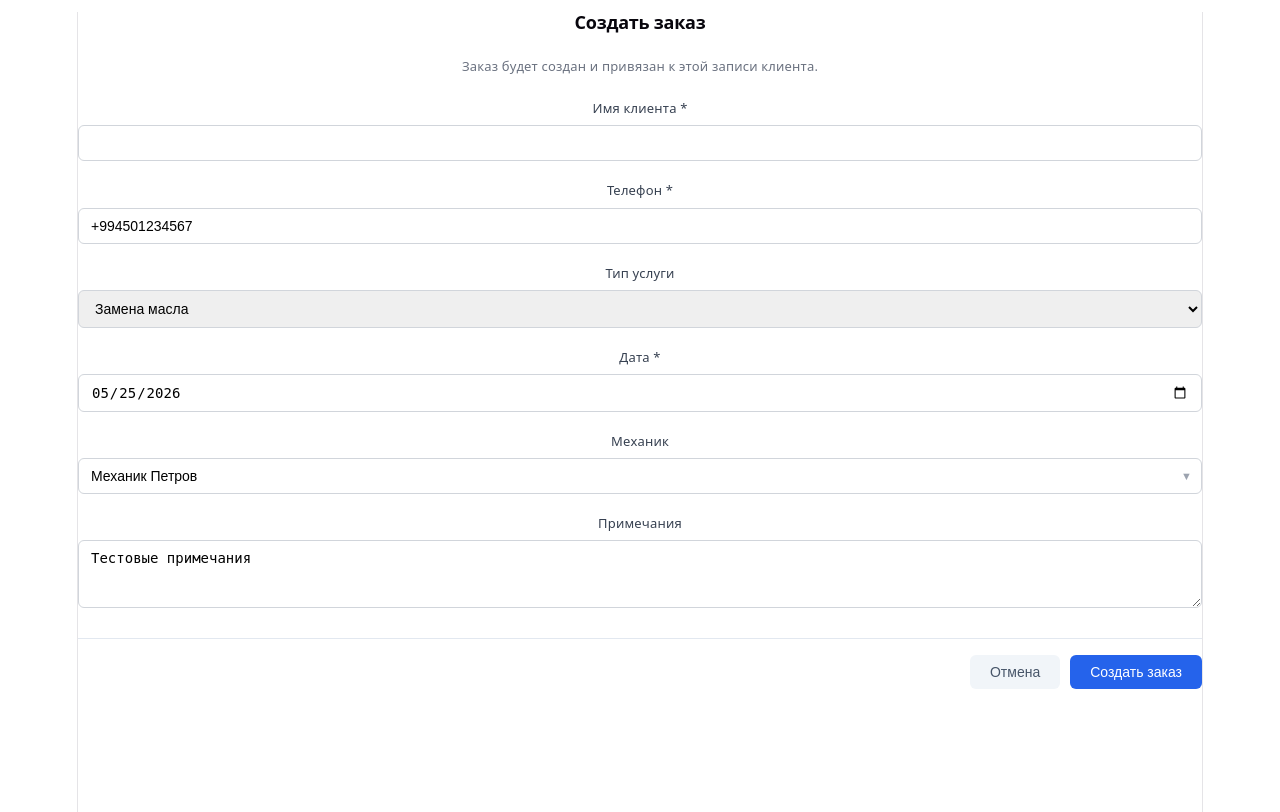
Scenario: QuickOrderForm › показывает ошибку валидации если clientName пустой
Click the button with test id "qof-submit-btn".
click(1136, 672)  # box [1070, 655, 1202, 689]
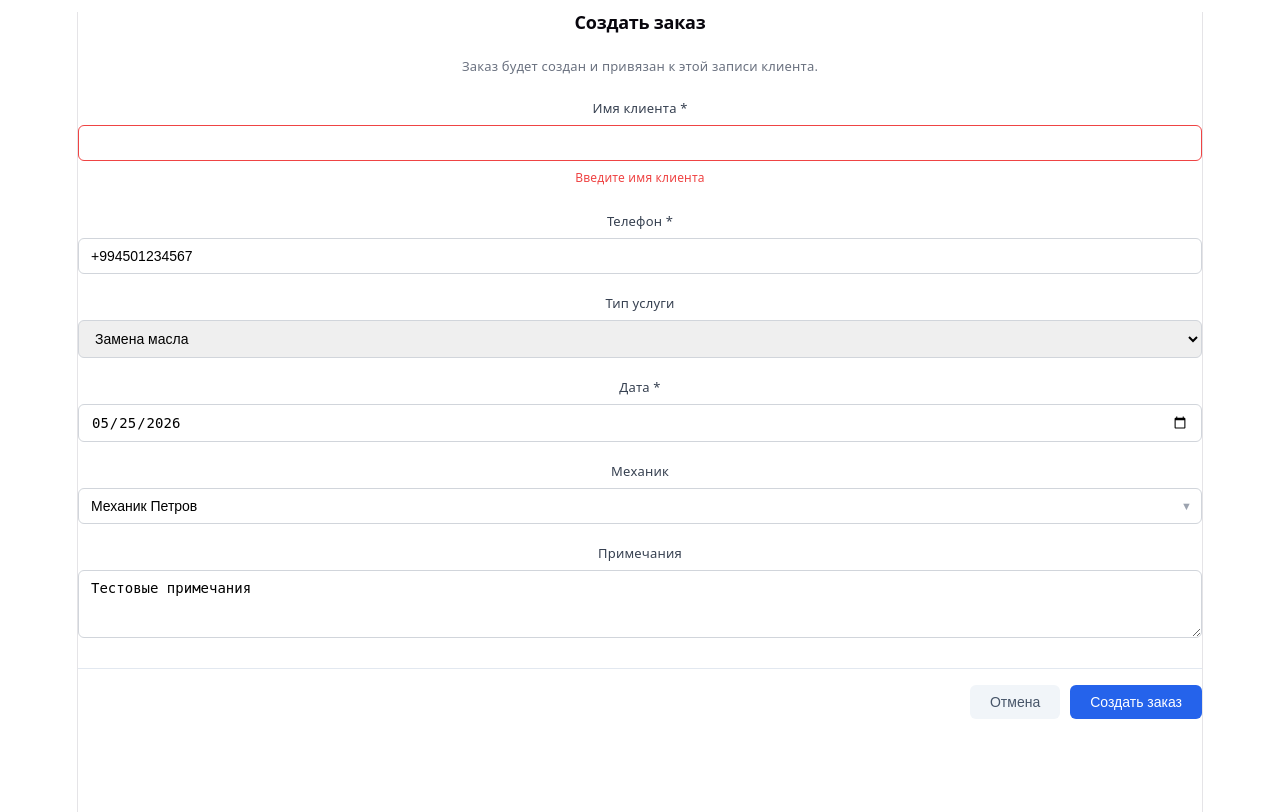
Expected: the text "Введите имя клиента" is shown, [575, 169, 705, 186]
